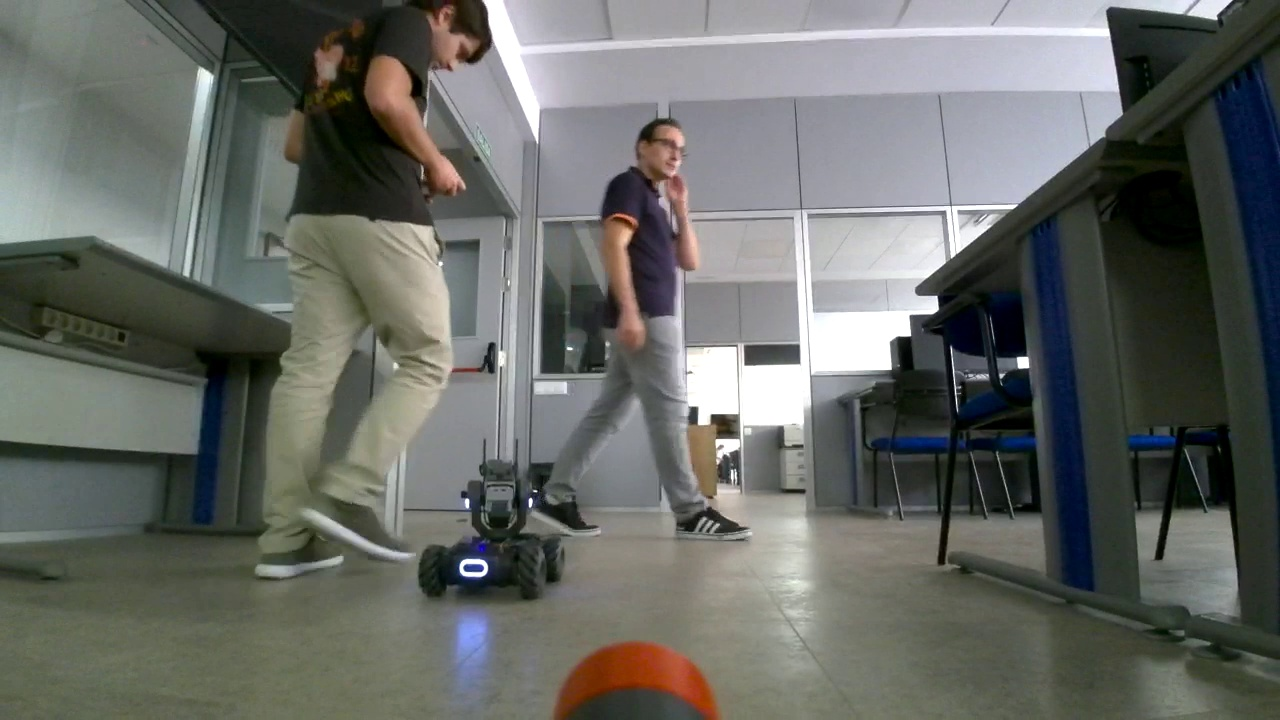robot: (417, 437, 568, 597)
